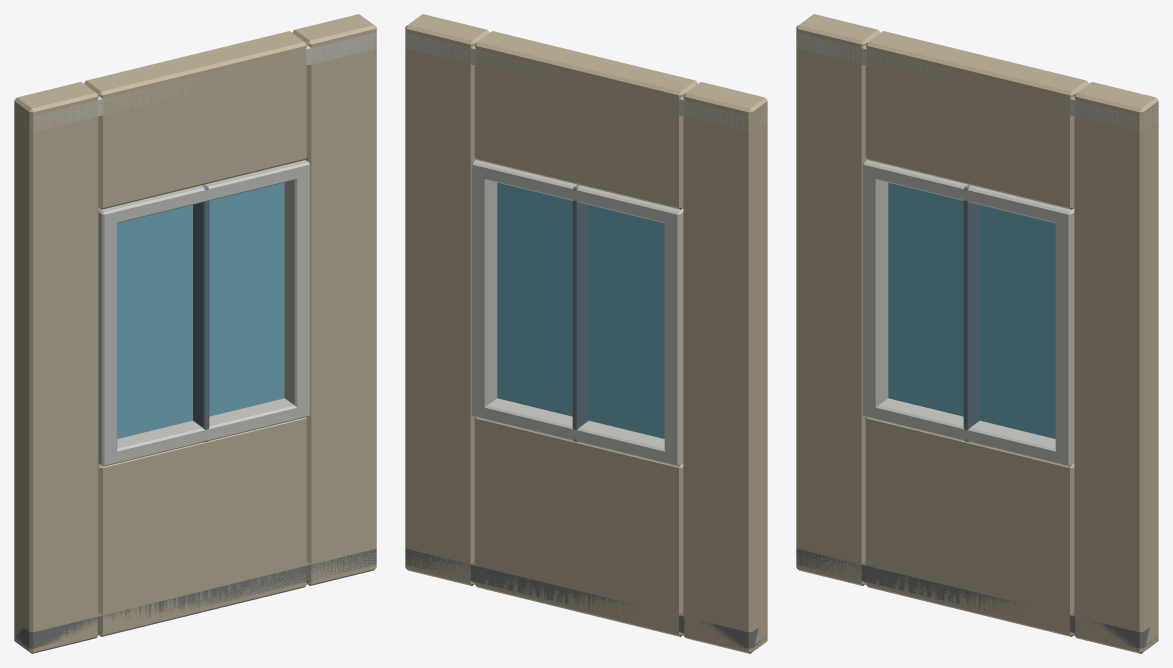
Rendered from architecture-wall-window.lod0.glb.
3 renders of one model, left to right at view 1: azimuth 30°, elevation 25°; view 2: azimuth 150°, elevation 25°; view 3: azimuth 330°, elevation 25°, orthographic.
Parts seen in each view (by area): view 1: architecture-wall-window__body; view 2: architecture-wall-window__body; view 3: architecture-wall-window__body.
Boxes of the visible parts, box(x1,y1,x2,y2) form: architecture-wall-window__body: box(14, 14, 376, 653); architecture-wall-window__body: box(405, 14, 767, 653); architecture-wall-window__body: box(796, 14, 1158, 653).
Size of the model in its own units: 2 by 3 by 0.23.
